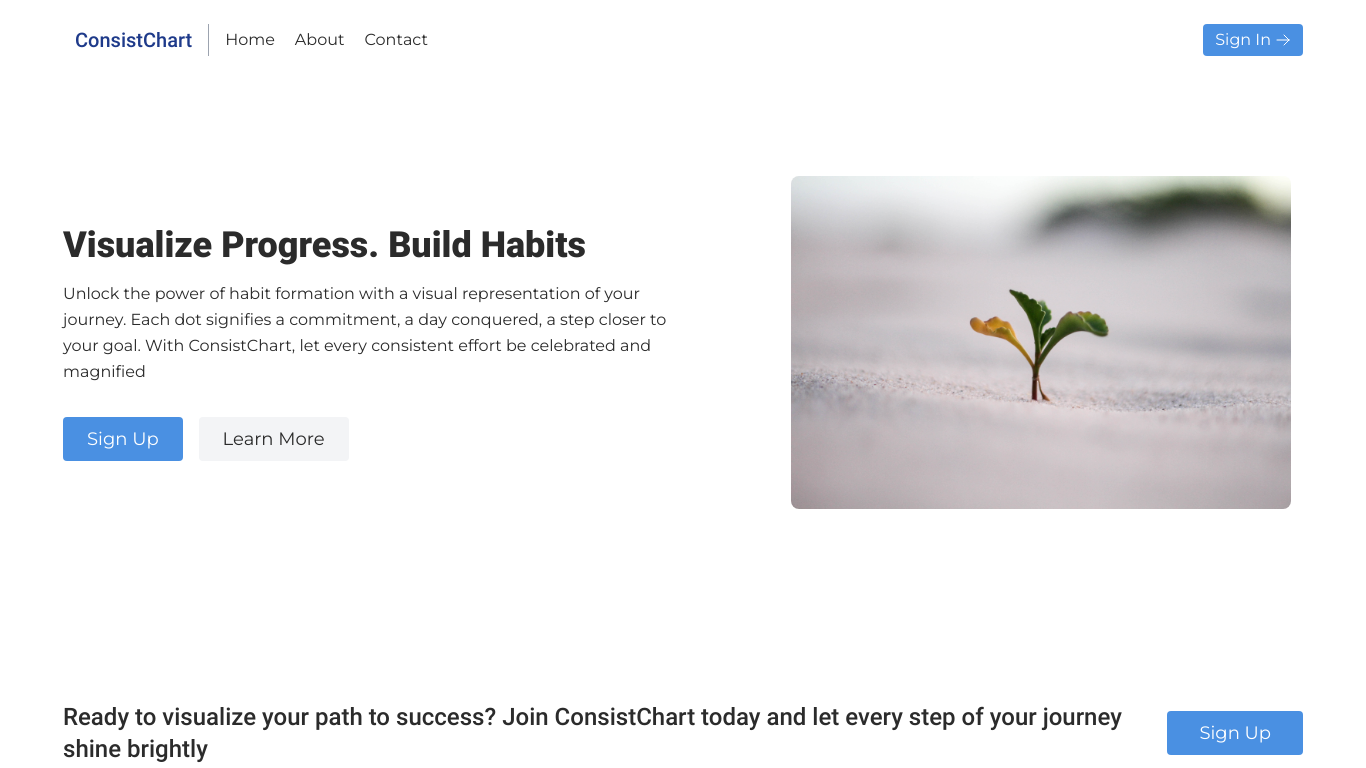
Test: Navigation › should check the navigation works
The image size is (1366, 768).
Note: about page
What coordinates should you click on to do the following:
click the link with test id "header-about"
I would click on:
 (320, 40)
Its box is [295,28,345,52].
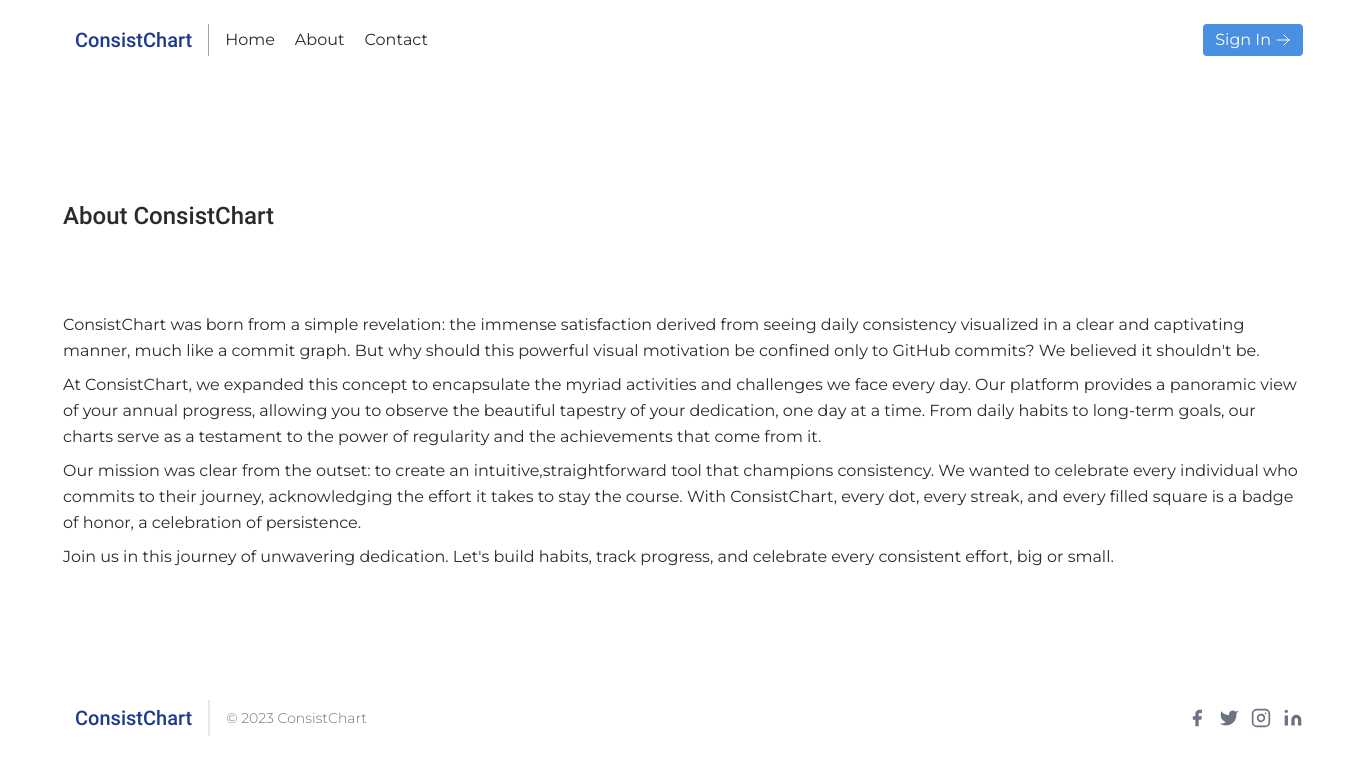
Expected: the heading "About ConsistChart" is shown, [63,202,274,230]
Note: homepage through the logo
What coordinates should you click on to do the following:
click the link with test id "header-logo"
I would click on:
 (128, 40)
Its box is [63,26,192,54].
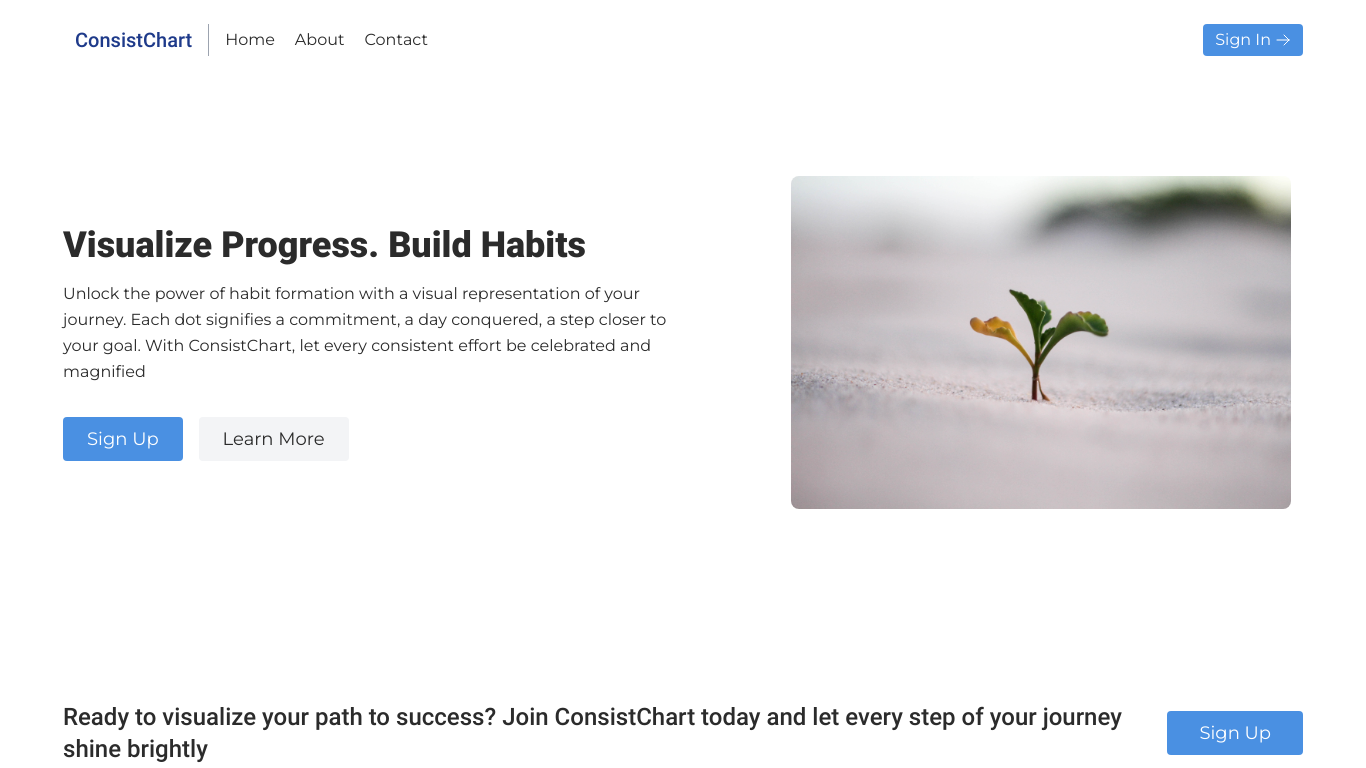
Expected: the heading "Visualize Progress. Build Habits" is shown, [63,225,586,265]
Note: contact page
What coordinates should you click on to do the following:
click the link with test id "header-contact"
I would click on:
 (396, 40)
Its box is [364,28,428,52].
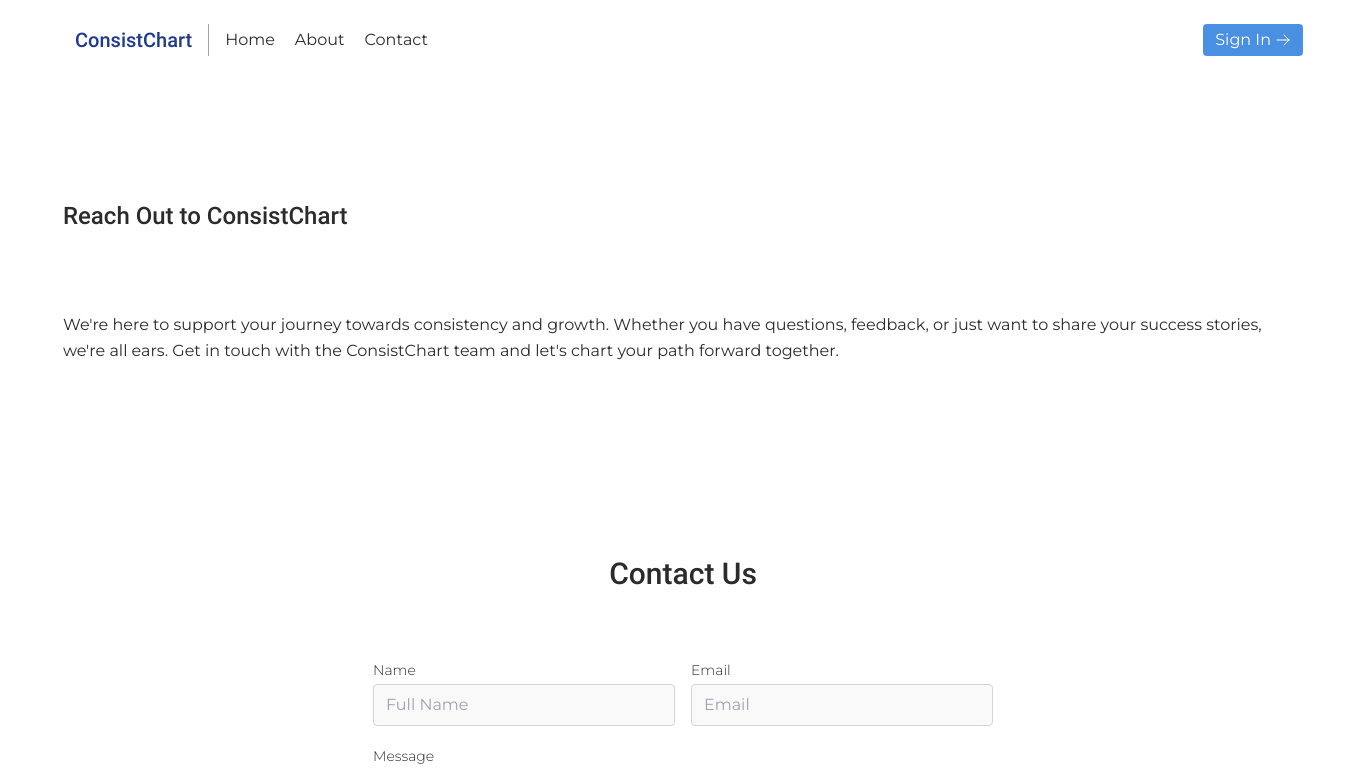
Expected: the heading "Reach Out to ConsistChart" is shown, [63,202,347,230]
Note: homepage through home button
What coordinates should you click on to do the following:
click the link with test id "header-home"
I would click on:
 (250, 40)
Its box is [225,28,275,52].
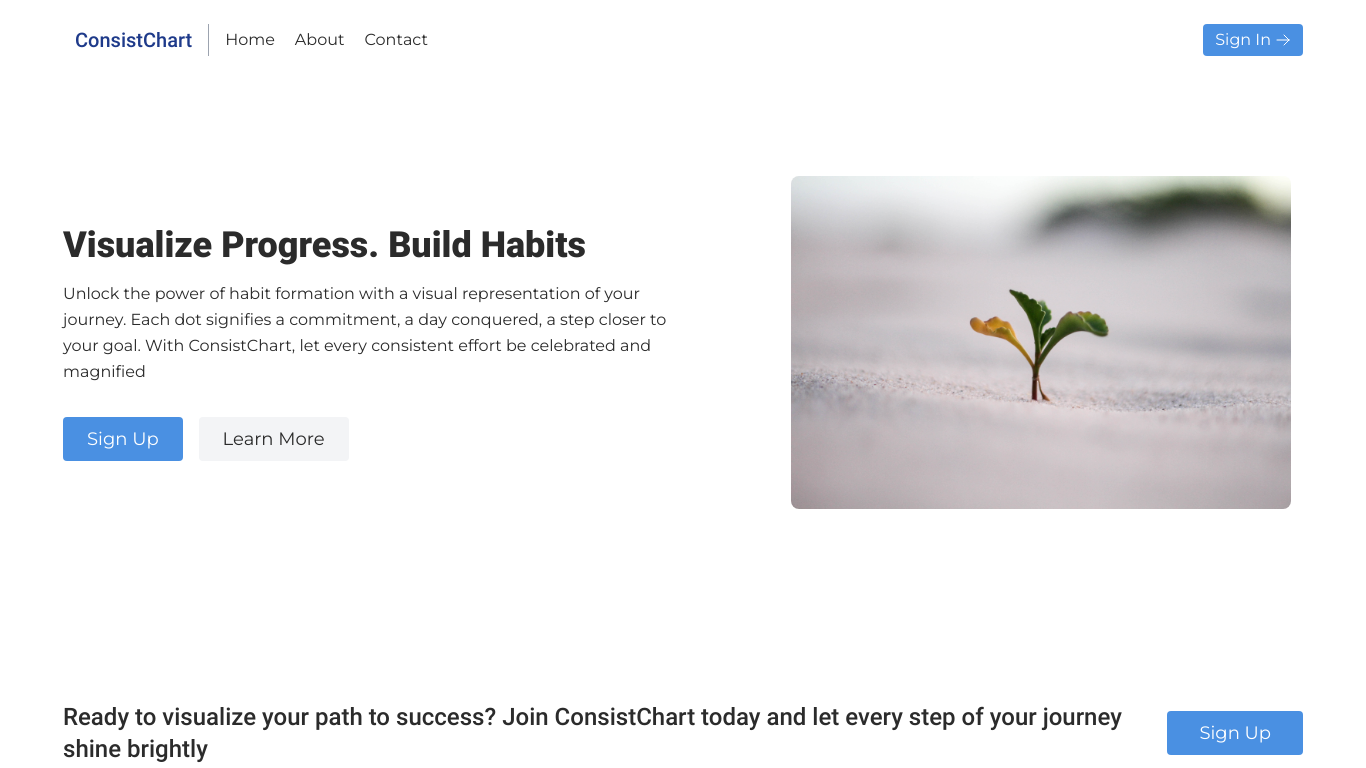
Expected: the heading "Visualize Progress. Build Habits" is shown, [63,225,586,265]
